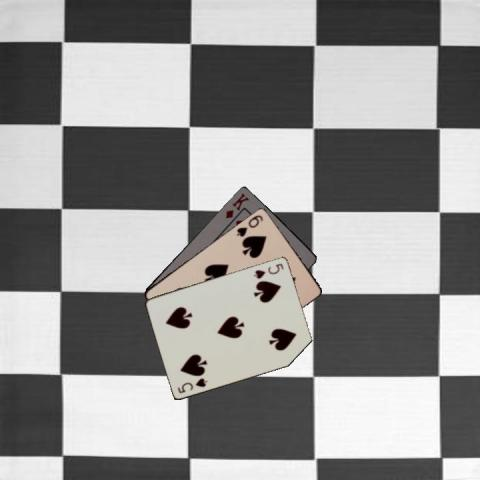5s: (251, 260, 285, 280), (175, 374, 209, 394)
6s: (233, 211, 265, 238)
Kd: (223, 189, 250, 220)
